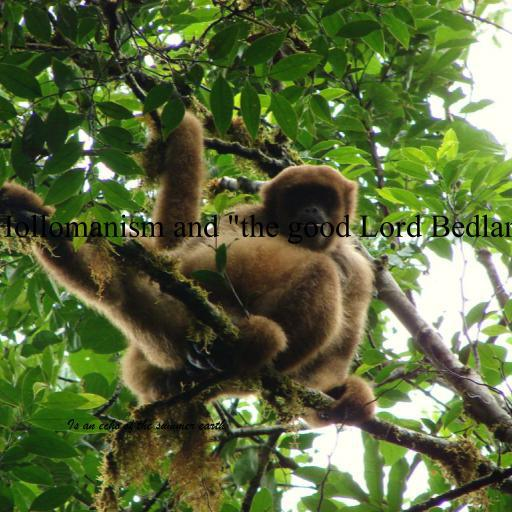Brush Script MT: (67, 418, 225, 434)
Times New Roman: (0, 214, 512, 244)
